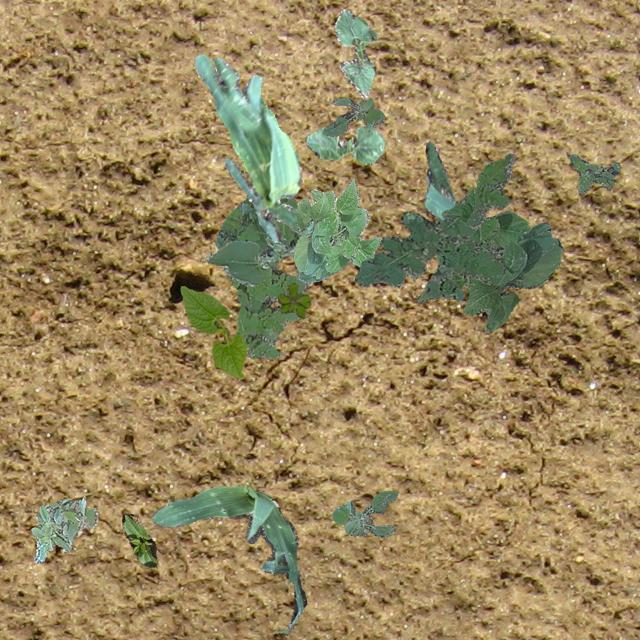crop: (152, 484, 306, 634), (194, 54, 312, 240), (416, 188, 562, 332), (200, 218, 332, 286), (292, 178, 380, 278), (180, 284, 246, 378), (332, 8, 377, 96), (304, 125, 384, 163), (422, 140, 457, 220), (120, 512, 156, 566)
weed: (353, 153, 514, 300), (214, 196, 308, 358), (30, 497, 96, 562), (331, 489, 397, 536), (322, 96, 384, 136), (568, 153, 620, 195), (276, 282, 310, 318)
